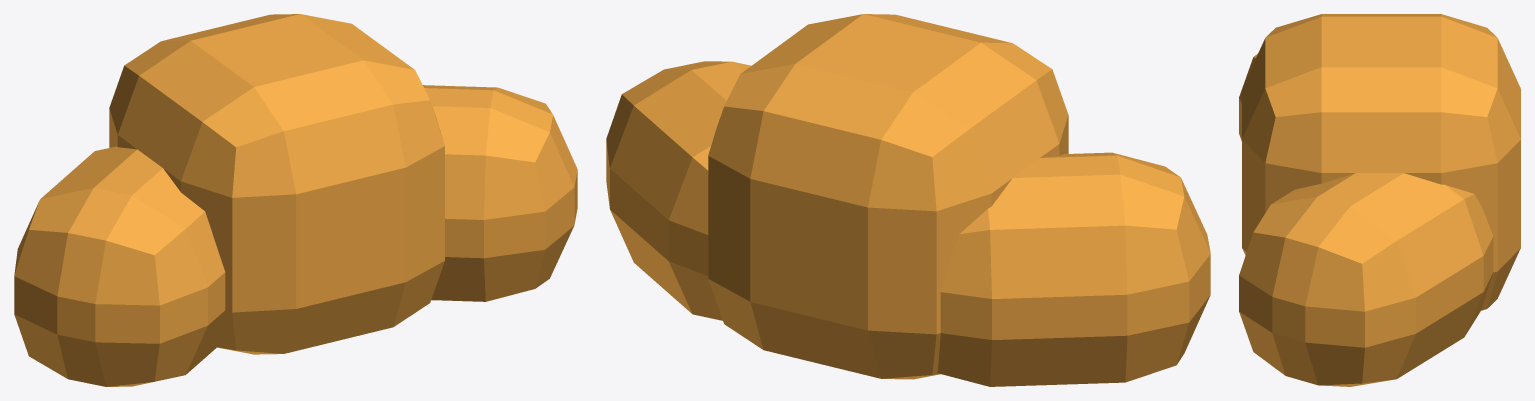
File: food_croissant.glb
3 renders of one model, left to right at view 1: azimuth 30°, elevation 25°; view 2: azimuth 150°, elevation 25°; view 3: azimuth 270°, elevation 25°, orthographic. The views are drawn at different scales.
Parts seen in each view (by area): view 1: food_croissant; view 2: food_croissant; view 3: food_croissant.
Part boxes in pixels (bbox=[...]): food_croissant: bbox=[14, 14, 577, 386]; food_croissant: bbox=[606, 14, 1210, 386]; food_croissant: bbox=[1239, 14, 1520, 386].
Bounding box in the file's own units: 0.1488 × 0.07 × 0.0707.
